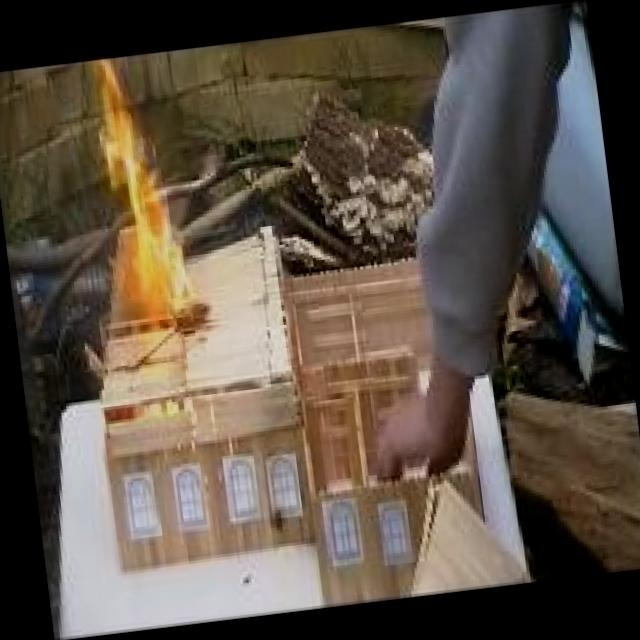fire: (63, 42, 224, 348)
